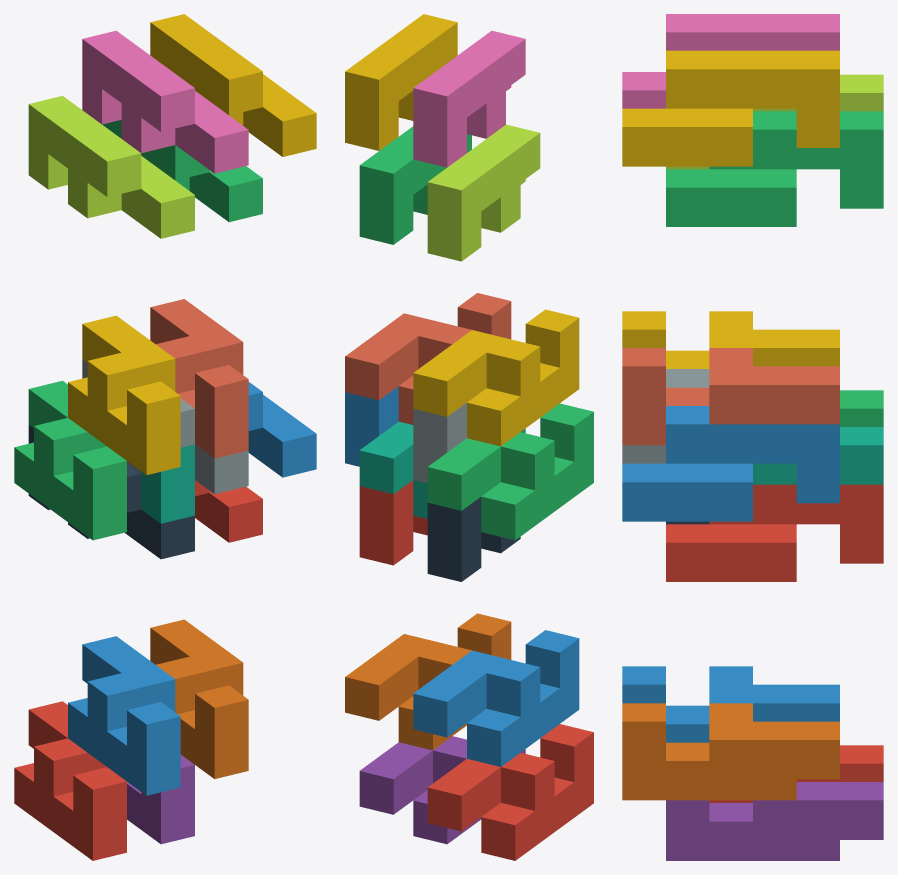
The model's file is tiling.obj.
3 renders of one model, left to right at view 1: azimuth 30°, elevation 25°; view 2: azimuth 150°, elevation 25°; view 3: azimuth 270°, elevation 25°, orthographic. The views are drawn at different scales.
Visible parts, largest first — view 1: copy_2_domain_4, copy_2_domain_3, copy_1_domain_4, copy_1_domain_2, copy_1_domain_3, copy_1_domain_1, copy_1_domain_6, copy_2_domain_8, copy_1_domain_8, copy_2_domain_7, copy_2_domain_6, copy_1_domain_5 (+4 smaller); view 2: copy_1_domain_2, copy_1_domain_4, copy_1_domain_3, copy_1_domain_1, copy_2_domain_3, copy_2_domain_4, copy_1_domain_6, copy_2_domain_8, copy_1_domain_8, copy_1_domain_5, copy_2_domain_7, copy_2_domain_1 (+4 smaller); view 3: copy_2_domain_8, copy_1_domain_6, copy_2_domain_6, copy_2_domain_7, copy_2_domain_5, copy_1_domain_5, copy_1_domain_8, copy_1_domain_2, copy_2_domain_4, copy_1_domain_4, copy_1_domain_7, copy_2_domain_3 (+3 smaller).
Boxes of the visible parts, left/top/right/bottom form: copy_2_domain_4: left=82, top=30, right=248, bottom=173; copy_2_domain_3: left=28, top=96, right=194, bottom=238; copy_1_domain_4: left=68, top=315, right=180, bottom=475; copy_1_domain_2: left=68, top=636, right=180, bottom=795; copy_1_domain_3: left=14, top=380, right=126, bottom=540; copy_1_domain_1: left=14, top=701, right=126, bottom=860; copy_1_domain_6: left=150, top=619, right=248, bottom=778; copy_2_domain_8: left=150, top=14, right=316, bottom=156; copy_1_domain_8: left=150, top=299, right=248, bottom=458; copy_2_domain_7: left=102, top=120, right=262, bottom=222; copy_2_domain_6: left=248, top=382, right=316, bottom=477; copy_1_domain_5: left=127, top=755, right=194, bottom=844; copy_1_domain_2: left=413, top=630, right=579, bottom=766; copy_1_domain_4: left=413, top=309, right=579, bottom=446; copy_1_domain_3: left=427, top=403, right=593, bottom=540; copy_1_domain_1: left=427, top=724, right=593, bottom=860; copy_2_domain_3: left=427, top=124, right=540, bottom=261; copy_2_domain_4: left=413, top=30, right=525, bottom=167; copy_1_domain_6: left=345, top=613, right=511, bottom=750; copy_2_domain_8: left=345, top=14, right=457, bottom=150; copy_1_domain_8: left=345, top=293, right=511, bottom=424; copy_1_domain_5: left=359, top=736, right=525, bottom=844; copy_2_domain_7: left=359, top=126, right=471, bottom=244; copy_2_domain_1: left=427, top=497, right=520, bottom=581; copy_2_domain_8: left=622, top=50, right=839, bottom=166; copy_1_domain_6: left=622, top=703, right=839, bottom=800; copy_2_domain_6: left=622, top=406, right=839, bottom=521; copy_2_domain_7: left=666, top=111, right=883, bottom=226; copy_2_domain_5: left=666, top=484, right=883, bottom=581; copy_1_domain_5: left=666, top=782, right=883, bottom=860; copy_1_domain_8: left=622, top=348, right=839, bottom=445; copy_1_domain_2: left=622, top=666, right=839, bottom=742; copy_2_domain_4: left=622, top=14, right=839, bottom=108; copy_1_domain_4: left=622, top=311, right=839, bottom=368; copy_1_domain_7: left=753, top=427, right=883, bottom=484; copy_2_domain_3: left=666, top=74, right=883, bottom=169.
Bounding box in the file's own units: 6 × 21 × 6.
